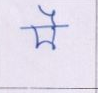ai_matra: (38, 5, 59, 25)
